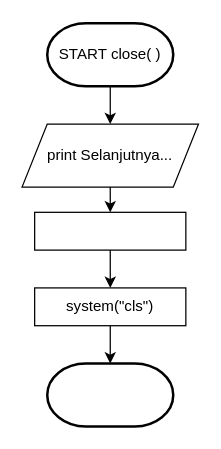
This 221x449 diagram has some shape labels left out. The centre of each missing label's shape, as x and y in pixels:
END: point 109,394
getchar( ): point 109,230
